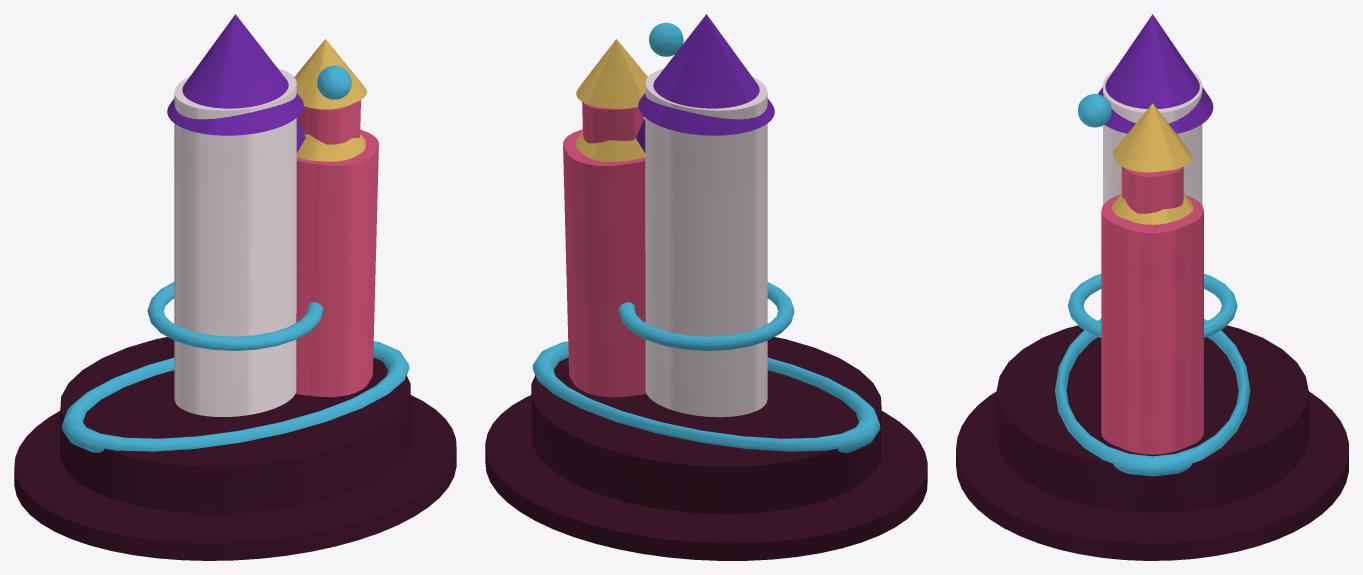
Rendered from 0534_岩石矿物图鉴_花岗岩.glb.
3 renders of one model, left to right at view 1: azimuth 30°, elevation 25°; view 2: azimuth 150°, elevation 25°; view 3: azimuth 270°, elevation 25°, orthographic.
Visible parts, largest first — view 1: card_0534; view 2: card_0534; view 3: card_0534.
Boxes of the visible parts, x1=… form: card_0534: x1=14, y1=14, x2=456, y2=560; card_0534: x1=485, y1=14, x2=927, y2=560; card_0534: x1=956, y1=14, x2=1348, y2=560.
Size of the model in its own units: 0.899 by 1 by 0.7875.
